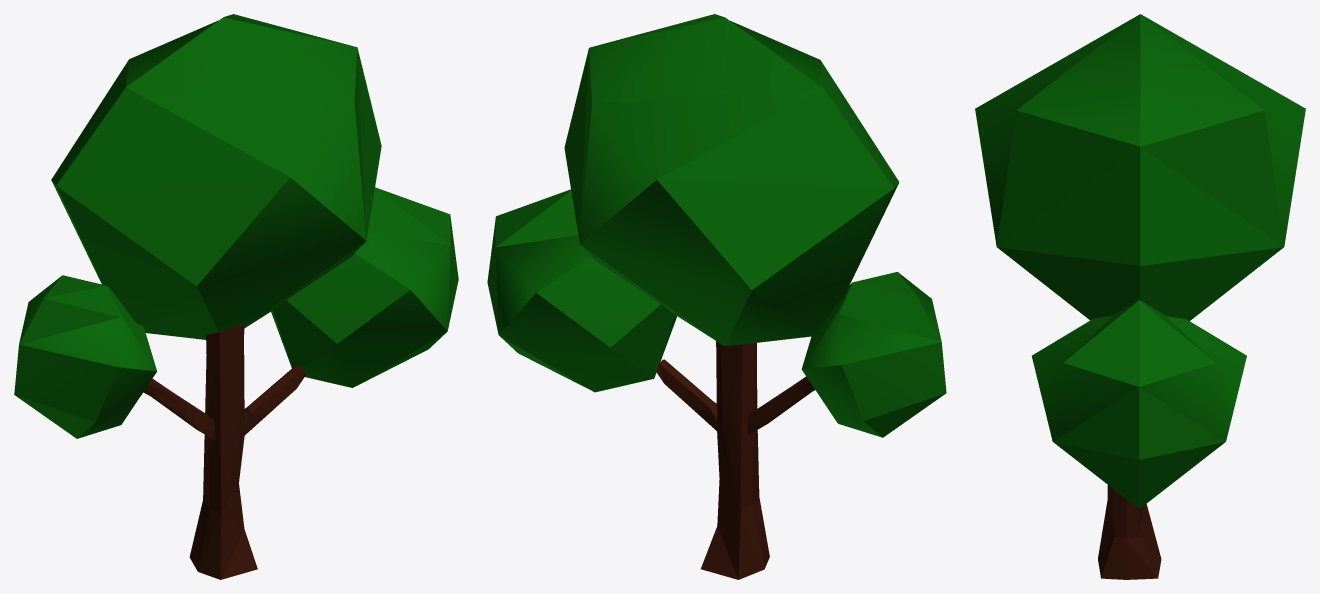
The model's file is tree.obj.
3 views of the same model, side by side, from view 1: azimuth 30°, elevation 25°; view 2: azimuth 150°, elevation 25°; view 3: azimuth 270°, elevation 25° (orthographic). The views are drawn at different scales.
Visible parts, largest first — view 1: Tree; view 2: Tree; view 3: Tree.
Part boxes in pixels (bbox=[...]): Tree: bbox=[14, 14, 458, 579]; Tree: bbox=[487, 14, 946, 579]; Tree: bbox=[975, 14, 1305, 579].
Bounding box in the file's own units: 16.96 × 19.57 × 10.56.
